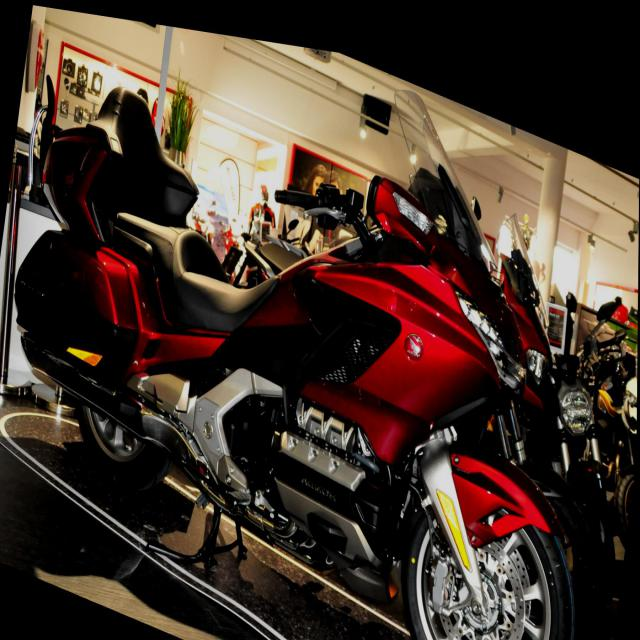Gold Wing: (0, 0, 628, 639)
